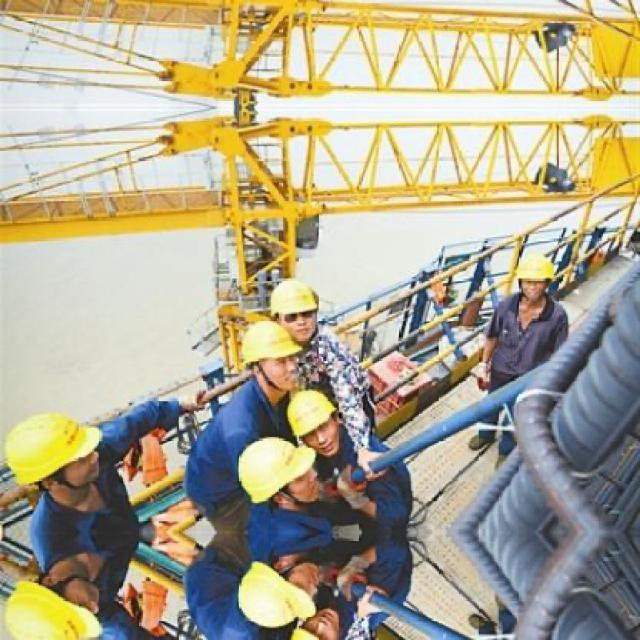helmet: (3, 403, 108, 505), (2, 558, 108, 638), (240, 434, 329, 514), (240, 549, 329, 629), (235, 317, 308, 389), (283, 385, 345, 457), (268, 276, 328, 342), (511, 249, 558, 306), (282, 606, 344, 639)
